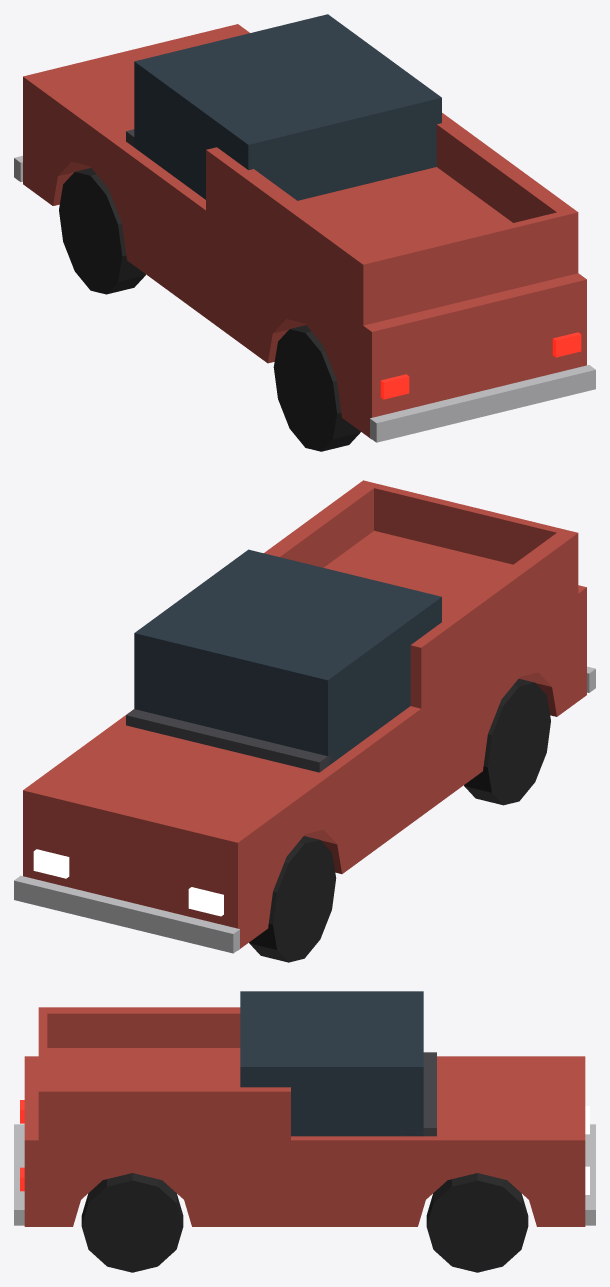
File: pickup.glb
3 views of the same model, one above another, from view 1: azimuth 30°, elevation 25°; view 2: azimuth 150°, elevation 25°; view 3: azimuth 270°, elevation 25° (orthographic). The views are drawn at different scales.
Parts seen in each view (by area): view 1: body, bed, cabin, WHEEL_FL, WHEEL_RL, bumper_r, taillamp, taillamp.001; view 2: body, cabin, bed, WHEEL_FL, WHEEL_RL, bumper_f, dashboard, headlamp.001, headlamp; view 3: body, bed, cabin, WHEEL_FR, WHEEL_RR, dashboard, bumper_r, bumper_f.
Boxes of the visible parts, x1,y1,x2,y2 form: body: (23, 24, 586, 439); bed: (206, 113, 578, 325); cabin: (134, 14, 441, 200); WHEEL_FL: (59, 168, 145, 294); WHEEL_RL: (273, 325, 360, 451); bumper_r: (370, 365, 595, 442); taillamp: (380, 374, 409, 399); taillamp.001: (552, 332, 581, 357); body: (23, 585, 586, 950); cabin: (134, 549, 441, 765); bed: (264, 480, 578, 708); WHEEL_FL: (249, 836, 336, 962); WHEEL_RL: (464, 678, 550, 805); bumper_f: (14, 875, 239, 953); dashboard: (126, 709, 335, 772); headlamp.001: (33, 849, 69, 878); headlamp: (188, 887, 223, 916); body: (24, 1056, 585, 1226); bed: (38, 1007, 290, 1140); cabin: (240, 991, 423, 1136); WHEEL_FR: (426, 1173, 528, 1272); WHEEL_RR: (81, 1173, 183, 1272); dashboard: (399, 1052, 436, 1136); bumper_r: (14, 1124, 24, 1225); bumper_f: (585, 1124, 595, 1225).
Bounding box in the file's own units: 1.89 × 2.07 × 5.4.
